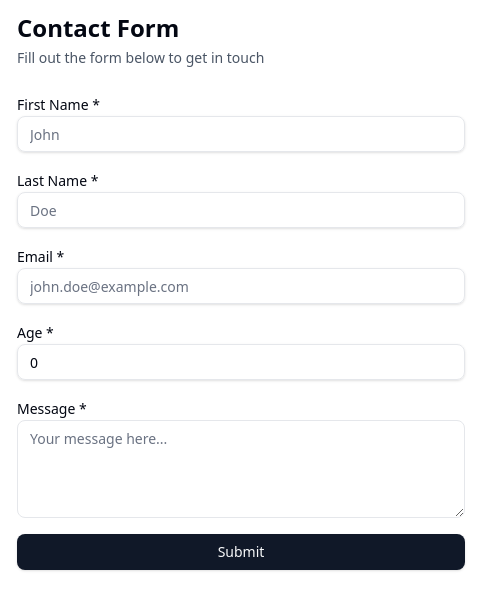
Test: ContactForm › should show validation error for empty first name
Click the field labelled "First Name *". click: (241,134)
box: x1=17 y1=116 x2=465 y2=152
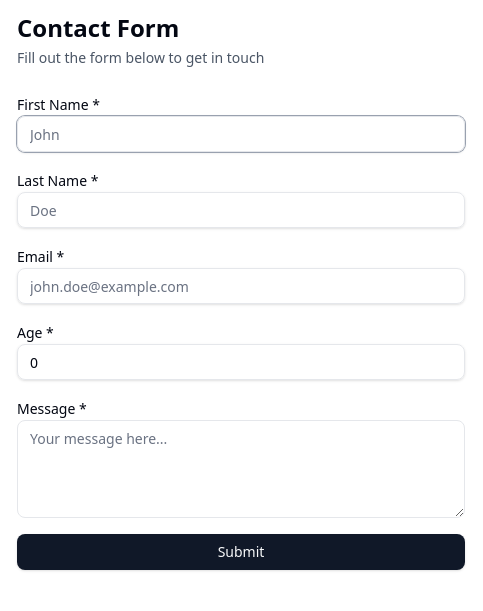
Press Tab
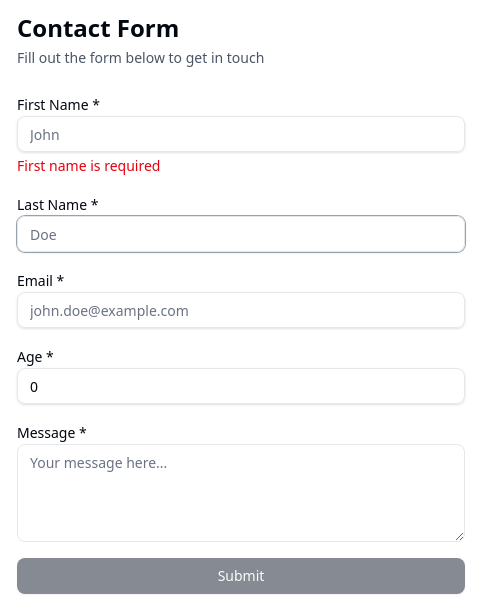
Expected: the text "First name is required" is shown, x1=17 y1=156 x2=160 y2=175
